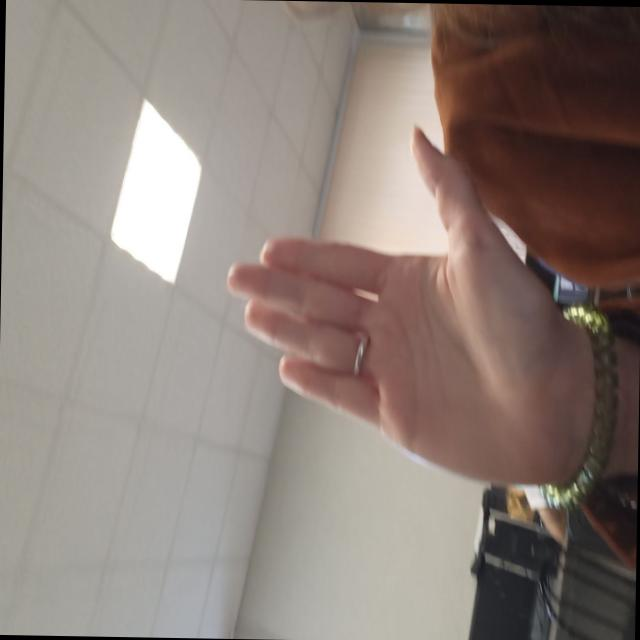v: (232, 136, 573, 482)
